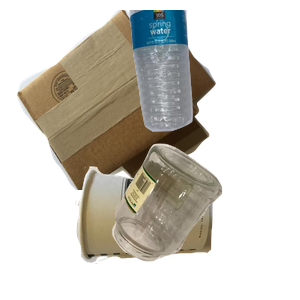cardboard: (14, 10, 222, 190)
glass: (110, 141, 300, 300)
plastic: (127, 10, 300, 134)
trash: (73, 164, 278, 300)
